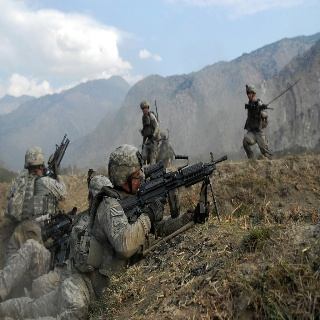rifle: (111, 150, 234, 228)
